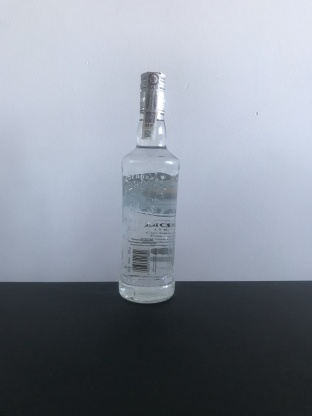nakretka: (137, 67, 167, 117)
